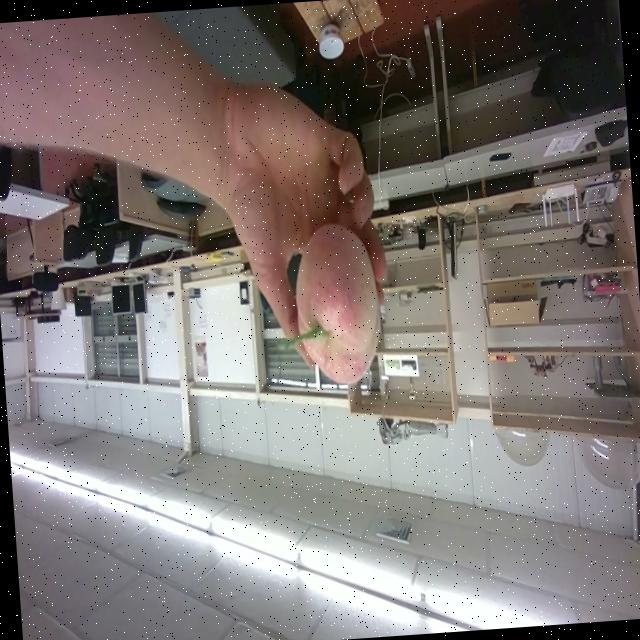peach: (287, 223, 378, 382)
